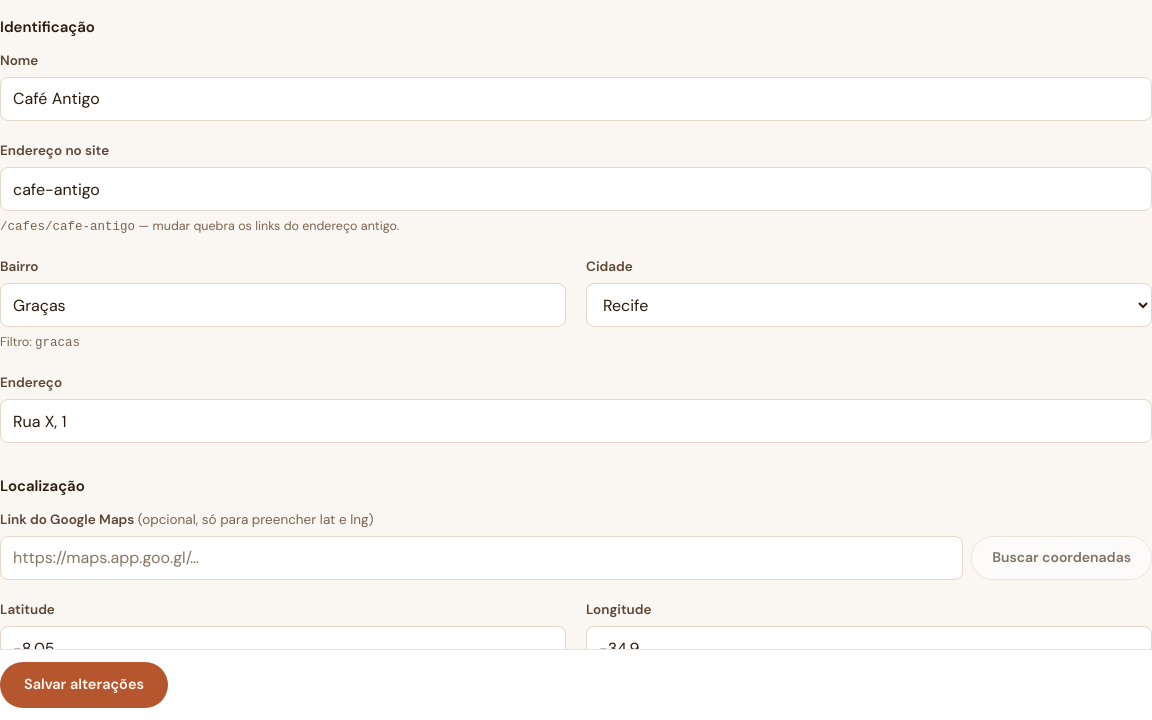
DadosCafeForm — endereço na edição (#155) › no ar, confirmar grava com o endereço novo
Replace the text in the field labelled "Endereço no site" with "cafe-novo". click: [576, 189]
box: [0,167,1151,211]
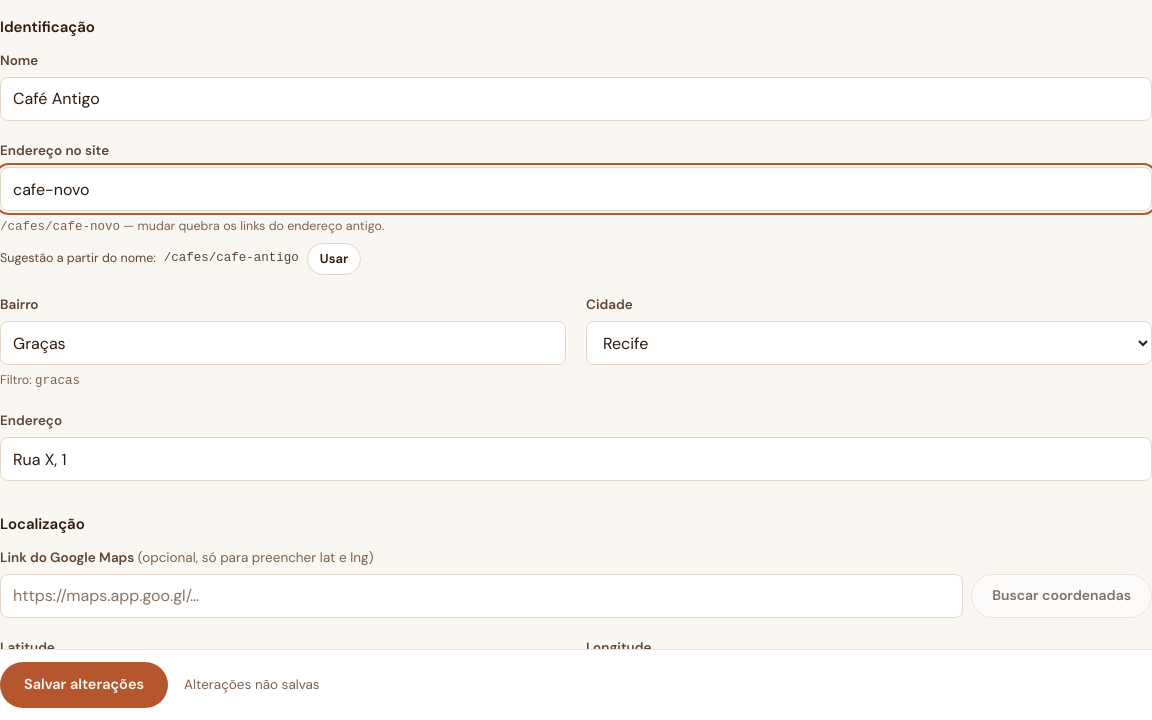
Click the button "Salvar alterações". click: [84, 685]
box: [0,662,168,708]
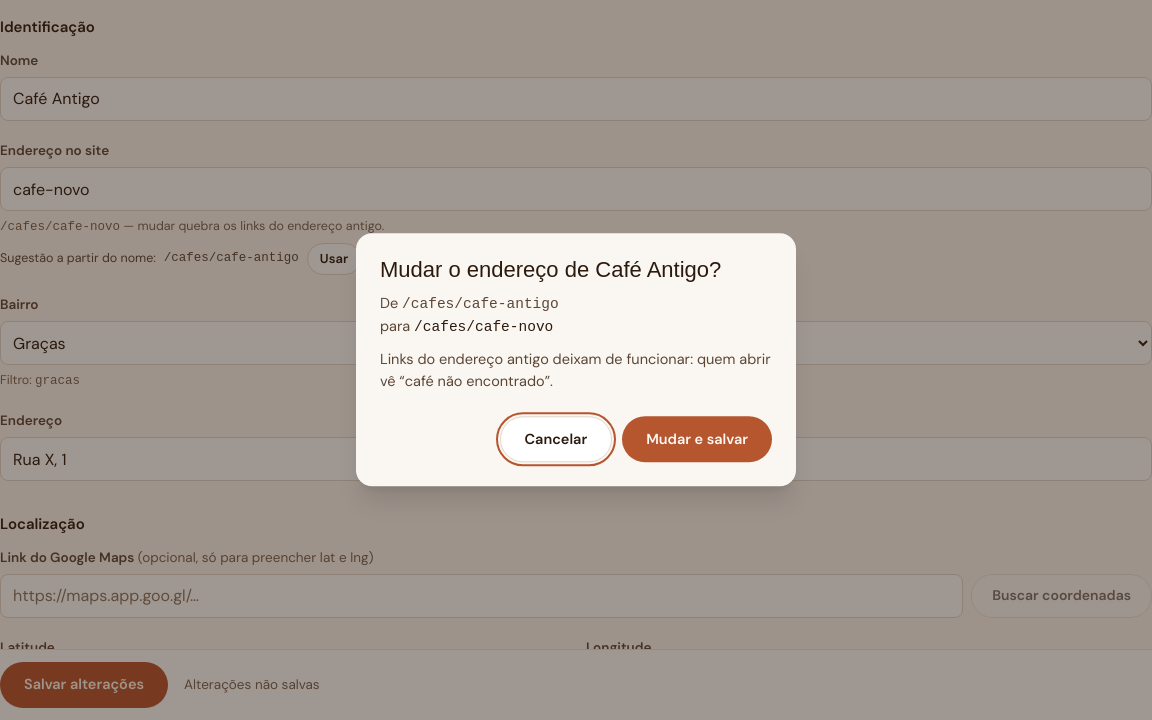
Click the button "Mudar e salvar". click: [697, 440]
box: [622,417,772,463]
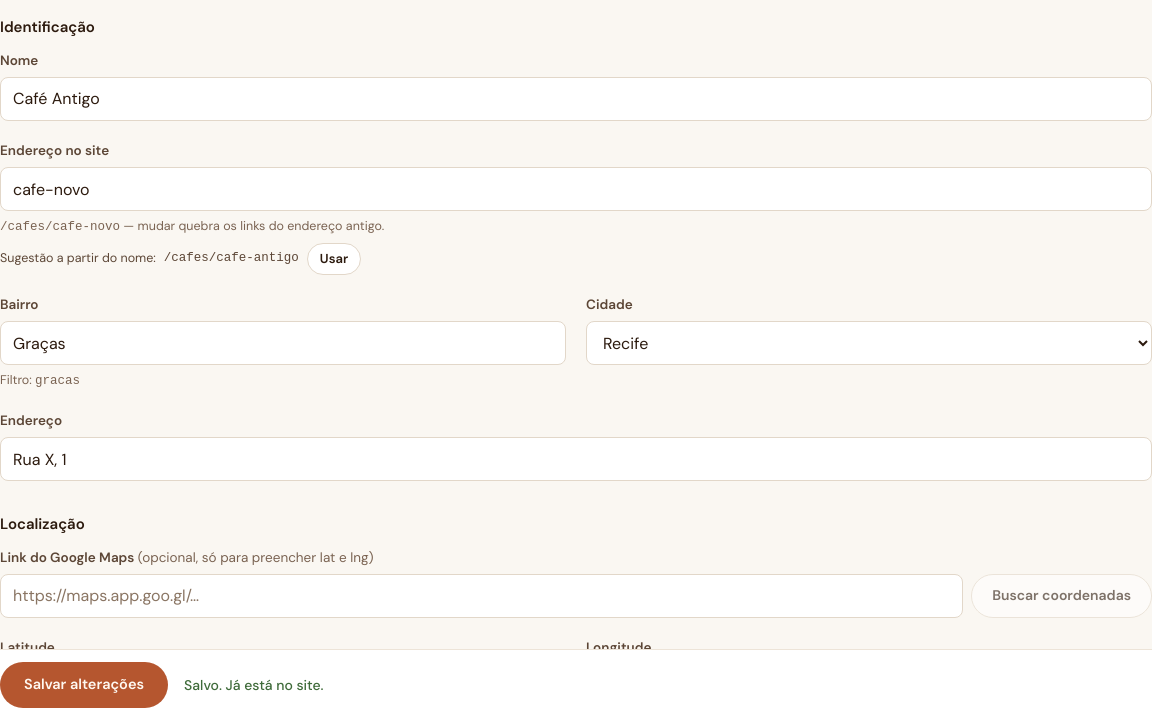
Result: the text "Salvo. Já está no site." is shown at [184,674,324,696]
